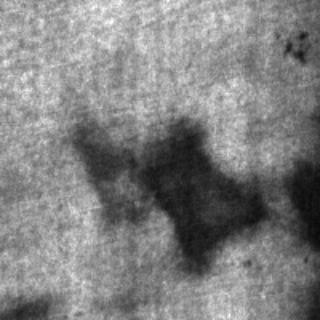patches: (142, 116, 270, 270), (68, 117, 148, 230), (278, 154, 318, 250)
